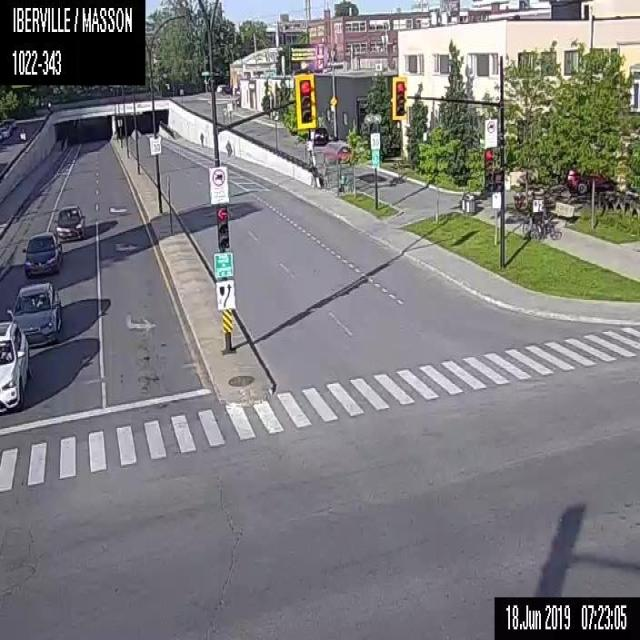pedestrian: (224, 139, 232, 157), (199, 132, 204, 147)
vehicle: (6, 280, 64, 346), (0, 320, 29, 413), (20, 231, 61, 276), (52, 204, 86, 242), (313, 125, 328, 145)
